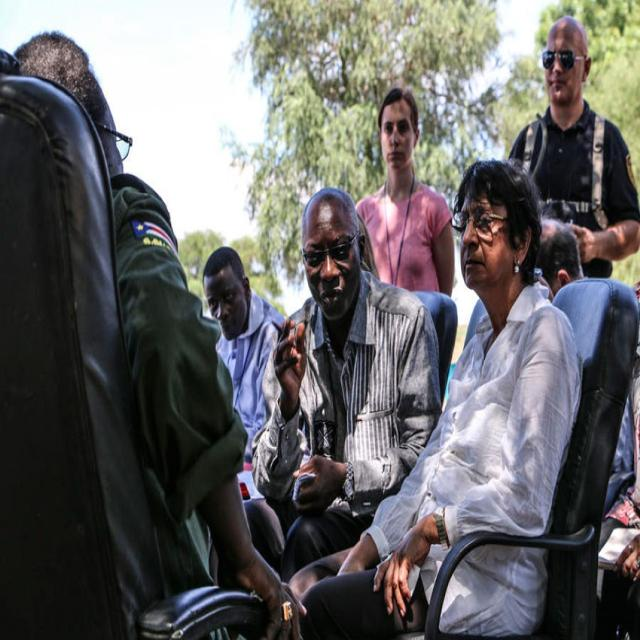body: (10, 27, 306, 639), (285, 153, 582, 640), (242, 184, 444, 586), (505, 14, 640, 282), (535, 216, 628, 524), (351, 85, 456, 297), (199, 242, 289, 468), (618, 278, 639, 590)
